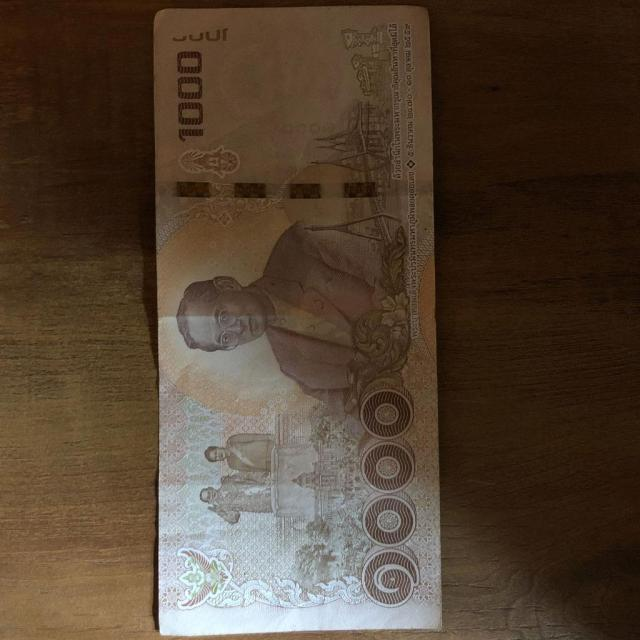THAI1000: (154, 7, 441, 634)
